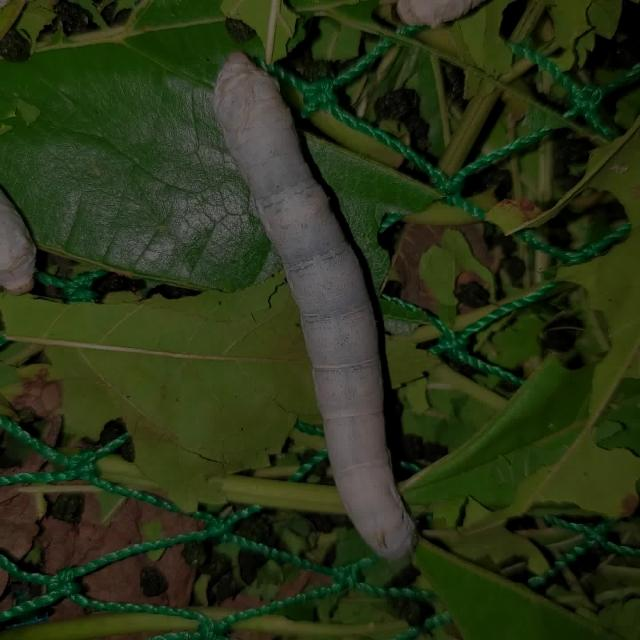Healthy: (190, 36, 465, 577)
